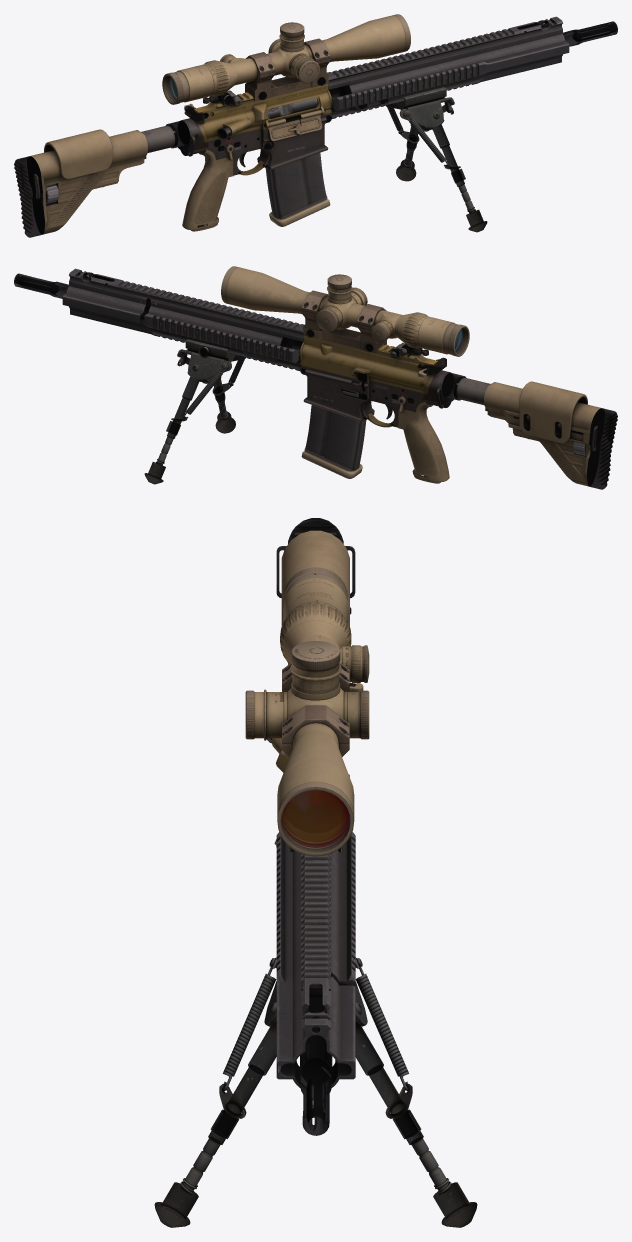
3 views of the same model, one above another, from view 1: azimuth 30°, elevation 25°; view 2: azimuth 150°, elevation 25°; view 3: azimuth 270°, elevation 25° (orthographic). The views are drawn at different scales.
Parts seen in each view (by area): view 1: Body_0, Scope_3, Bipod_4, Mag_1, Reciever_2; view 2: Body_0, Scope_3, Bipod_4, Mag_1; view 3: Body_0, Scope_3, Bipod_4, LenseF_5.
Part boxes in pixels (x1=…): Body_0: x1=14, y1=16, x2=617, y2=237; Scope_3: x1=162, y1=14, x2=410, y2=104; Bipod_4: x1=385, y1=87, x2=487, y2=232; Mag_1: x1=265, y1=153, x2=330, y2=226; Reciever_2: x1=267, y1=98, x2=317, y2=118; Body_0: x1=14, y1=268, x2=617, y2=489; Scope_3: x1=221, y1=266, x2=469, y2=356; Bipod_4: x1=144, y1=339, x2=246, y2=484; Mag_1: x1=301, y1=388, x2=366, y2=478; Body_0: x1=266, y1=518, x2=363, y2=1135; Scope_3: x1=245, y1=567, x2=369, y2=856; Bipod_4: x1=154, y1=957, x2=477, y2=1227; LenseF_5: x1=281, y1=790, x2=349, y2=847.
Size of the model in its own units: 19.45 by 6.69 by 4.55.
Materials: 7 (7 with a texture image).
